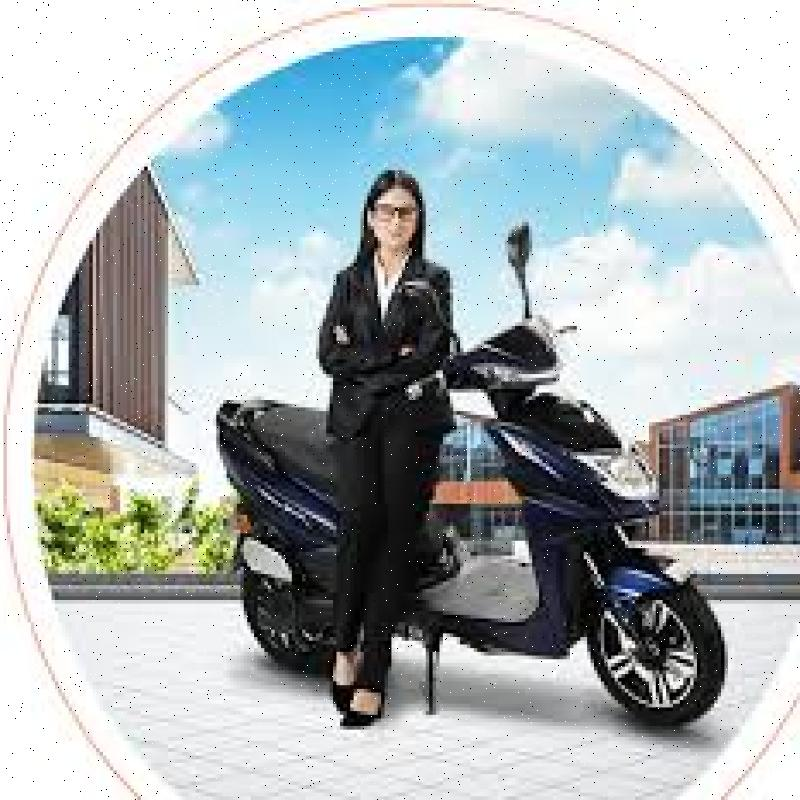bike: (208, 205, 700, 741)
